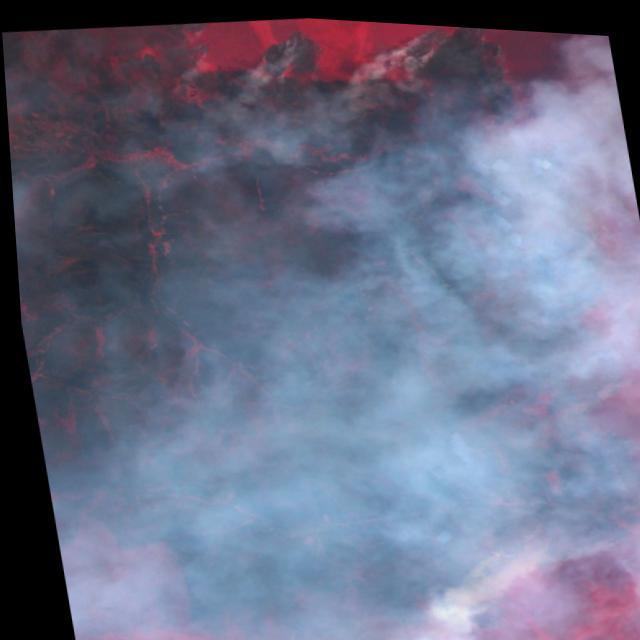fire: (99, 5, 640, 640)
